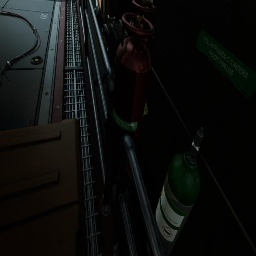0: (147, 127, 204, 256)
NitrogenTank ,: (109, 13, 154, 202), (127, 0, 156, 146)
